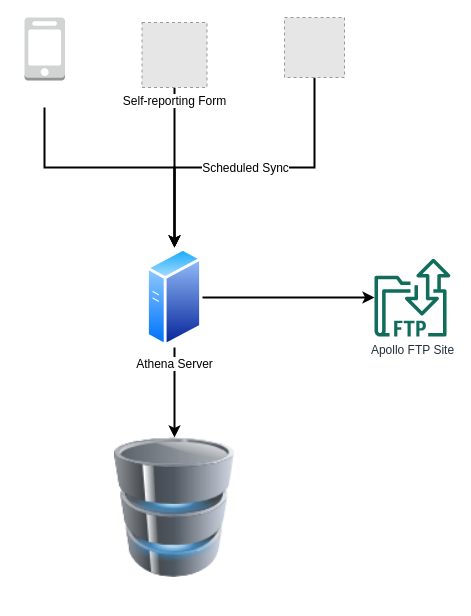
Image size: 471x616. Some labels were removed from this diagram. Grey dashed boxes stand in for pictures. The shapes that lost their labels are listed below. From the top down, each one's centre as x and y in pixels, then its label:
At (x=44, y=48): "Alpha App".
At (x=174, y=507): "Athena Database".
